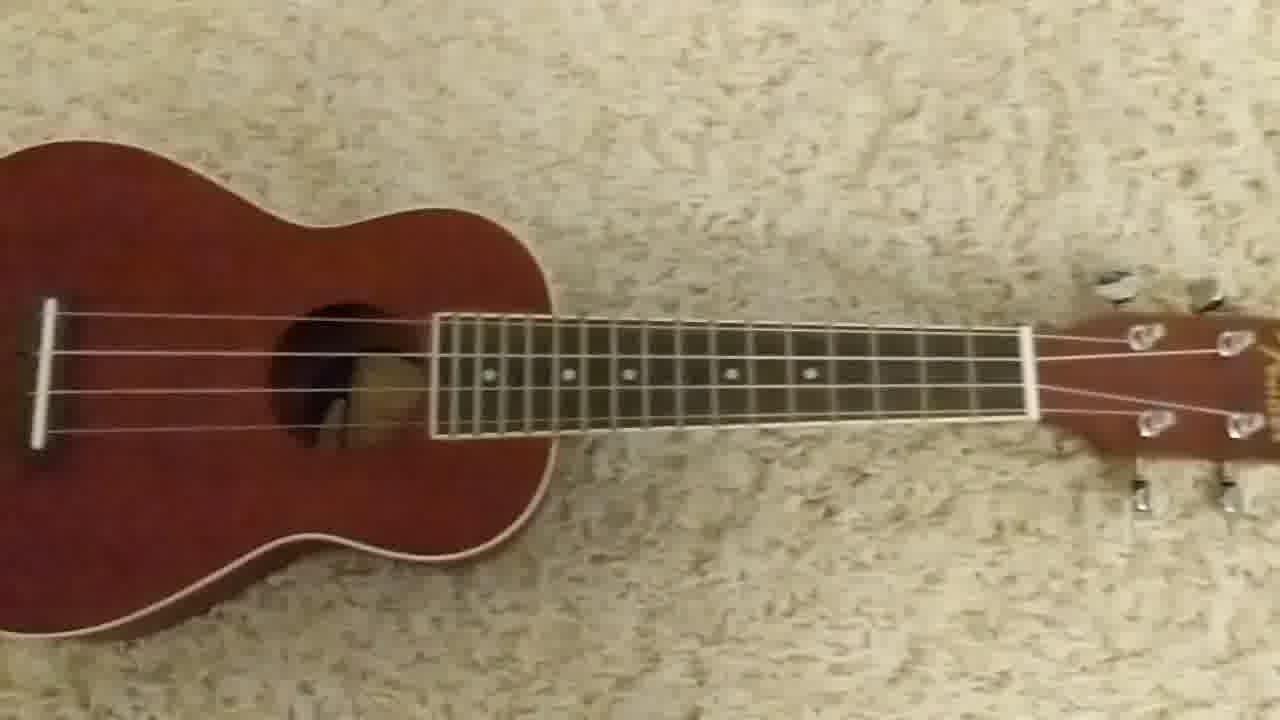Body: (1, 137, 563, 643)
Bridge: (25, 292, 76, 457)
Headstock: (1032, 267, 1280, 522)
